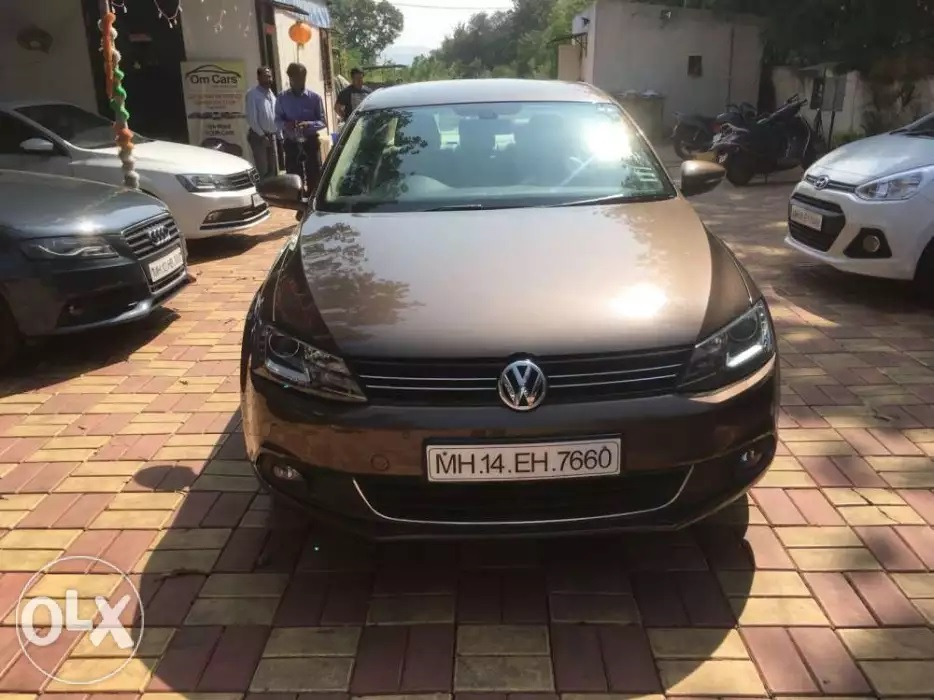licenseplate: (424, 437, 631, 489)
